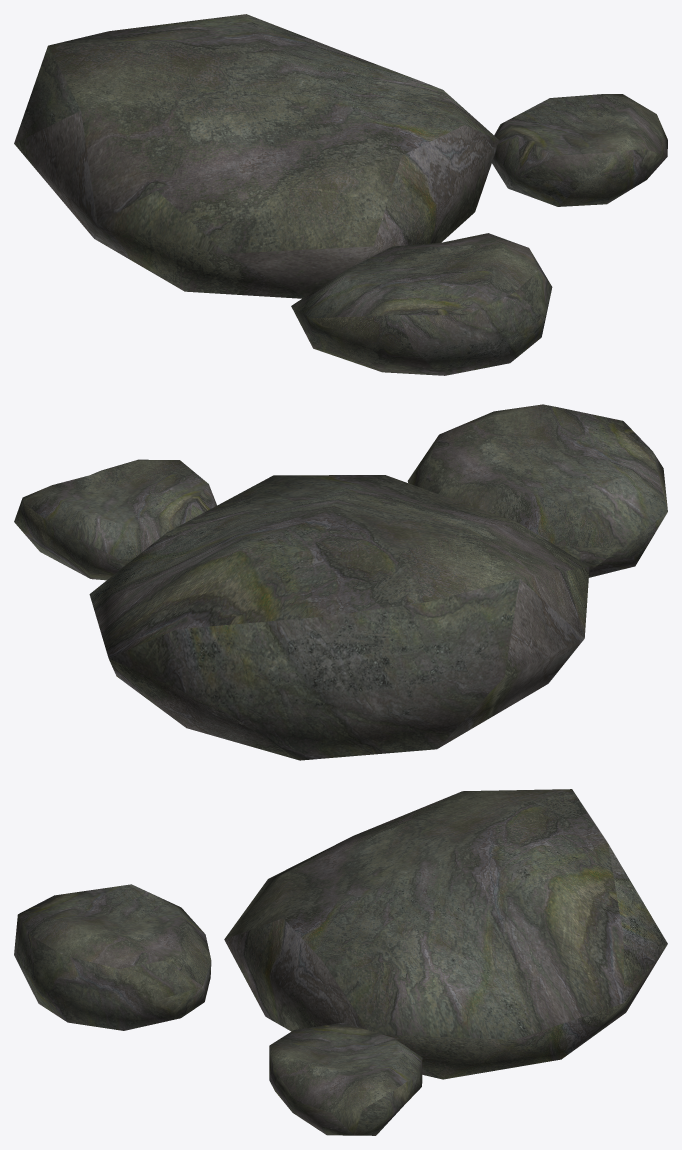
File: SmallRock_2.fbx
3 views of the same model, one above another, from view 1: azimuth 30°, elevation 25°; view 2: azimuth 150°, elevation 25°; view 3: azimuth 270°, elevation 25° (orthographic). The views are drawn at different scales.
Parts seen in each view (by area): view 1: Icosphere, Icosphere.001, Icosphere.002; view 2: Icosphere, Icosphere.001, Icosphere.002; view 3: Icosphere, Icosphere.001, Icosphere.002.
Boxes of the visible parts, left/top/right/bottom form: Icosphere: left=14, top=14, right=499, bottom=298; Icosphere.001: left=291, top=233, right=552, bottom=375; Icosphere.002: left=492, top=94, right=667, bottom=206; Icosphere: left=89, top=475, right=589, bottom=760; Icosphere.001: left=407, top=404, right=667, bottom=577; Icosphere.002: left=14, top=459, right=216, bottom=580; Icosphere: left=224, top=789, right=667, bottom=1079; Icosphere.001: left=14, top=884, right=211, bottom=1030; Icosphere.002: left=269, top=1023, right=422, bottom=1135.
Bounding box in the file's own units: 262 × 91.6 × 290.
1 material, 1 textured.
